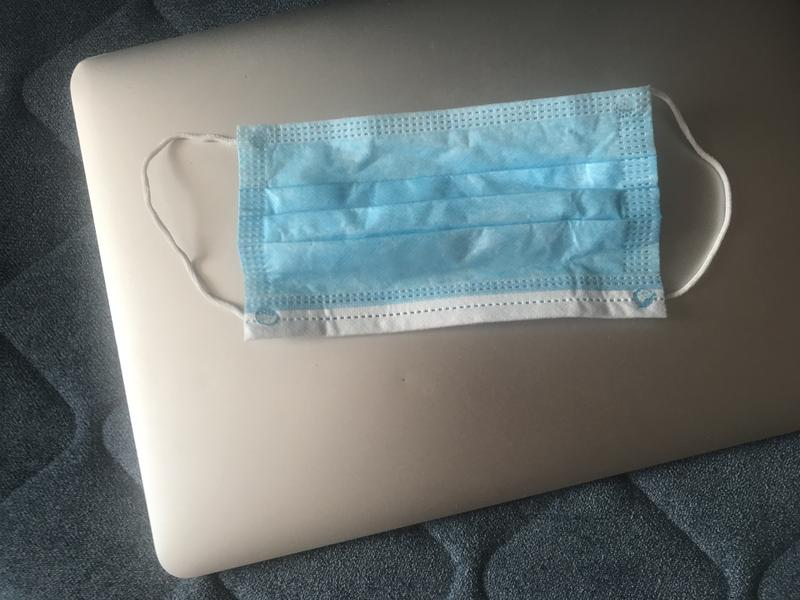medical_mask: (142, 86, 731, 336)
